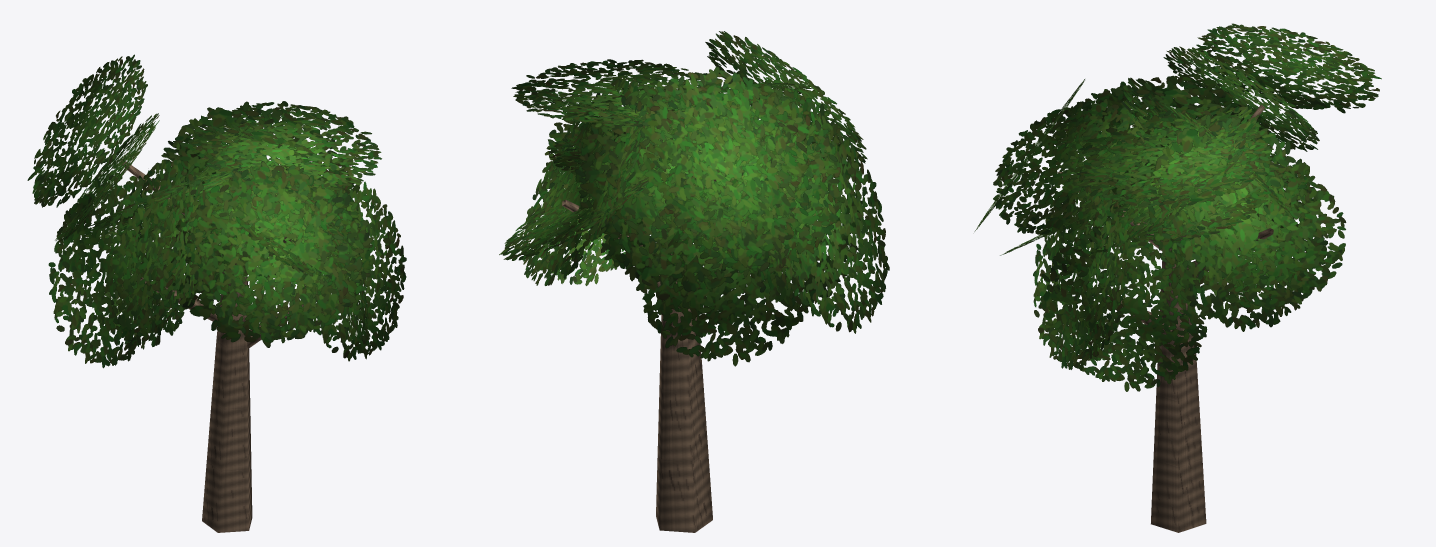
File: lowpoly_tree.obj
3 views of the same model, side by side, from view 1: azimuth 30°, elevation 25°; view 2: azimuth 150°, elevation 25°; view 3: azimuth 270°, elevation 25° (orthographic). The views are drawn at different scales.
Visible parts, largest first — view 1: tree; view 2: tree; view 3: tree.
Boxes of the visible parts, <box> form: tree: <box>27,54,406,532</box>; tree: <box>499,31,889,532</box>; tree: <box>974,23,1381,532</box>.
Bounding box in the file's own units: 2.63 × 3.14 × 2.79.
2 materials, 2 textured.
